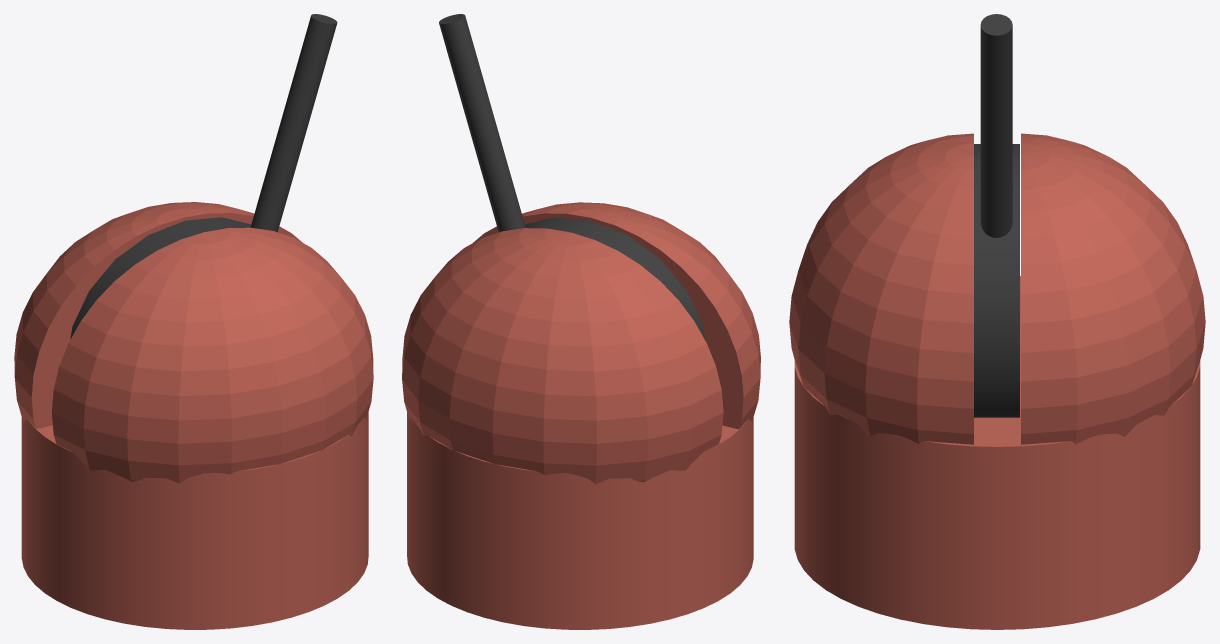
The model's file is Lever1.fbx.
3 renders of one model, left to right at view 1: azimuth 30°, elevation 25°; view 2: azimuth 150°, elevation 25°; view 3: azimuth 270°, elevation 25°, orthographic. The views are drawn at different scales.
Parts seen in each view (by area): view 1: polySurface160, polySurface161, polySurface163, polySurface165, polySurface162; view 2: polySurface163, polySurface161, polySurface160, polySurface165, polySurface162; view 3: polySurface161, polySurface163, polySurface160, polySurface162, polySurface165.
Boxes of the visible parts, x1,y1,x2,y2 form: polySurface160: (51, 227, 373, 483); polySurface161: (21, 412, 368, 629); polySurface163: (14, 202, 302, 429); polySurface165: (250, 14, 337, 232); polySurface162: (70, 217, 251, 339); polySurface163: (402, 228, 723, 483); polySurface161: (407, 412, 753, 629); polySurface160: (473, 202, 760, 429); polySurface165: (439, 14, 525, 232); polySurface162: (525, 217, 705, 340); polySurface161: (794, 276, 1200, 629); polySurface163: (1021, 133, 1205, 444); polySurface160: (789, 133, 973, 444); polySurface162: (974, 144, 1019, 417); polySurface165: (980, 14, 1012, 237).
Size of the model in its own units: 2.03 by 3.24 by 2.05.
